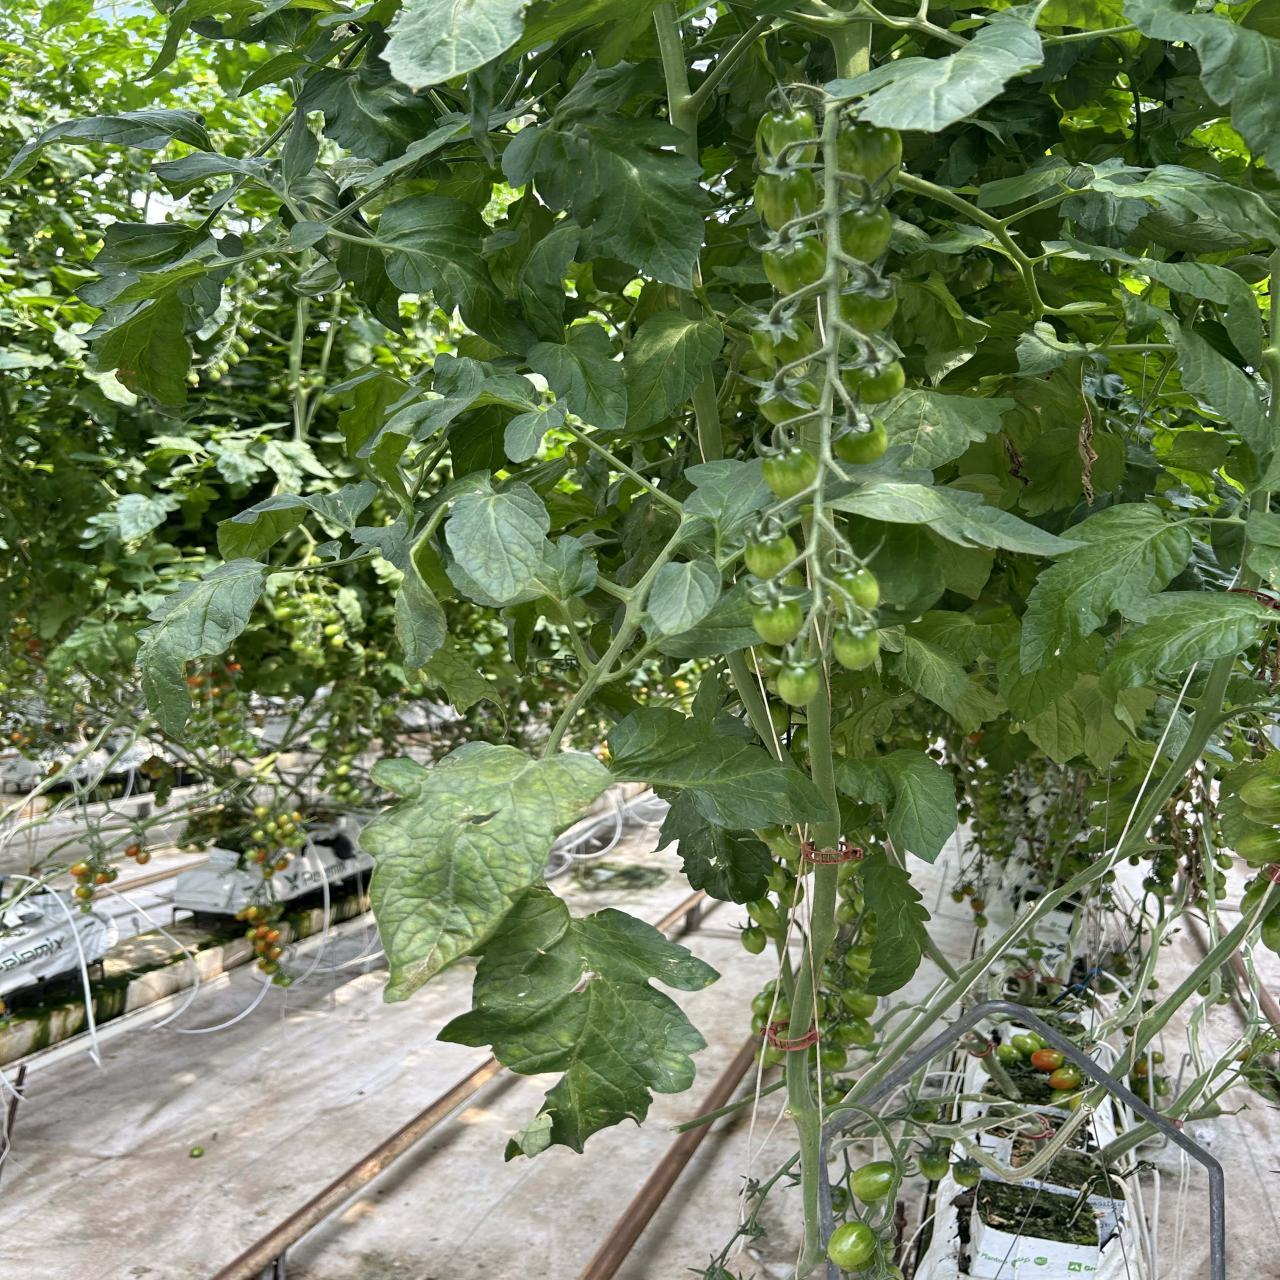Hoja: (437, 888, 720, 1152), (360, 742, 612, 1001), (503, 113, 712, 288), (77, 223, 243, 407), (1020, 504, 1192, 674), (608, 708, 830, 830), (1124, 0, 1280, 171), (824, 15, 1043, 132), (136, 559, 265, 738), (1062, 159, 1280, 253), (828, 478, 1078, 556), (1170, 324, 1275, 456), (380, 0, 531, 89), (1139, 259, 1265, 363), (445, 485, 550, 605), (525, 324, 627, 429), (878, 750, 958, 862), (647, 557, 722, 635)
Pedunculo: (785, 668, 839, 1275), (653, 0, 762, 159)
Tomate Rugoso: (837, 123, 903, 184), (755, 170, 821, 230), (762, 237, 825, 294), (840, 206, 892, 263), (762, 450, 818, 498), (832, 420, 887, 464), (744, 535, 799, 579), (828, 1221, 876, 1272), (839, 293, 898, 334), (753, 600, 804, 645), (832, 625, 879, 670), (850, 1162, 896, 1205), (858, 361, 905, 403), (776, 666, 819, 707), (838, 568, 879, 608)
